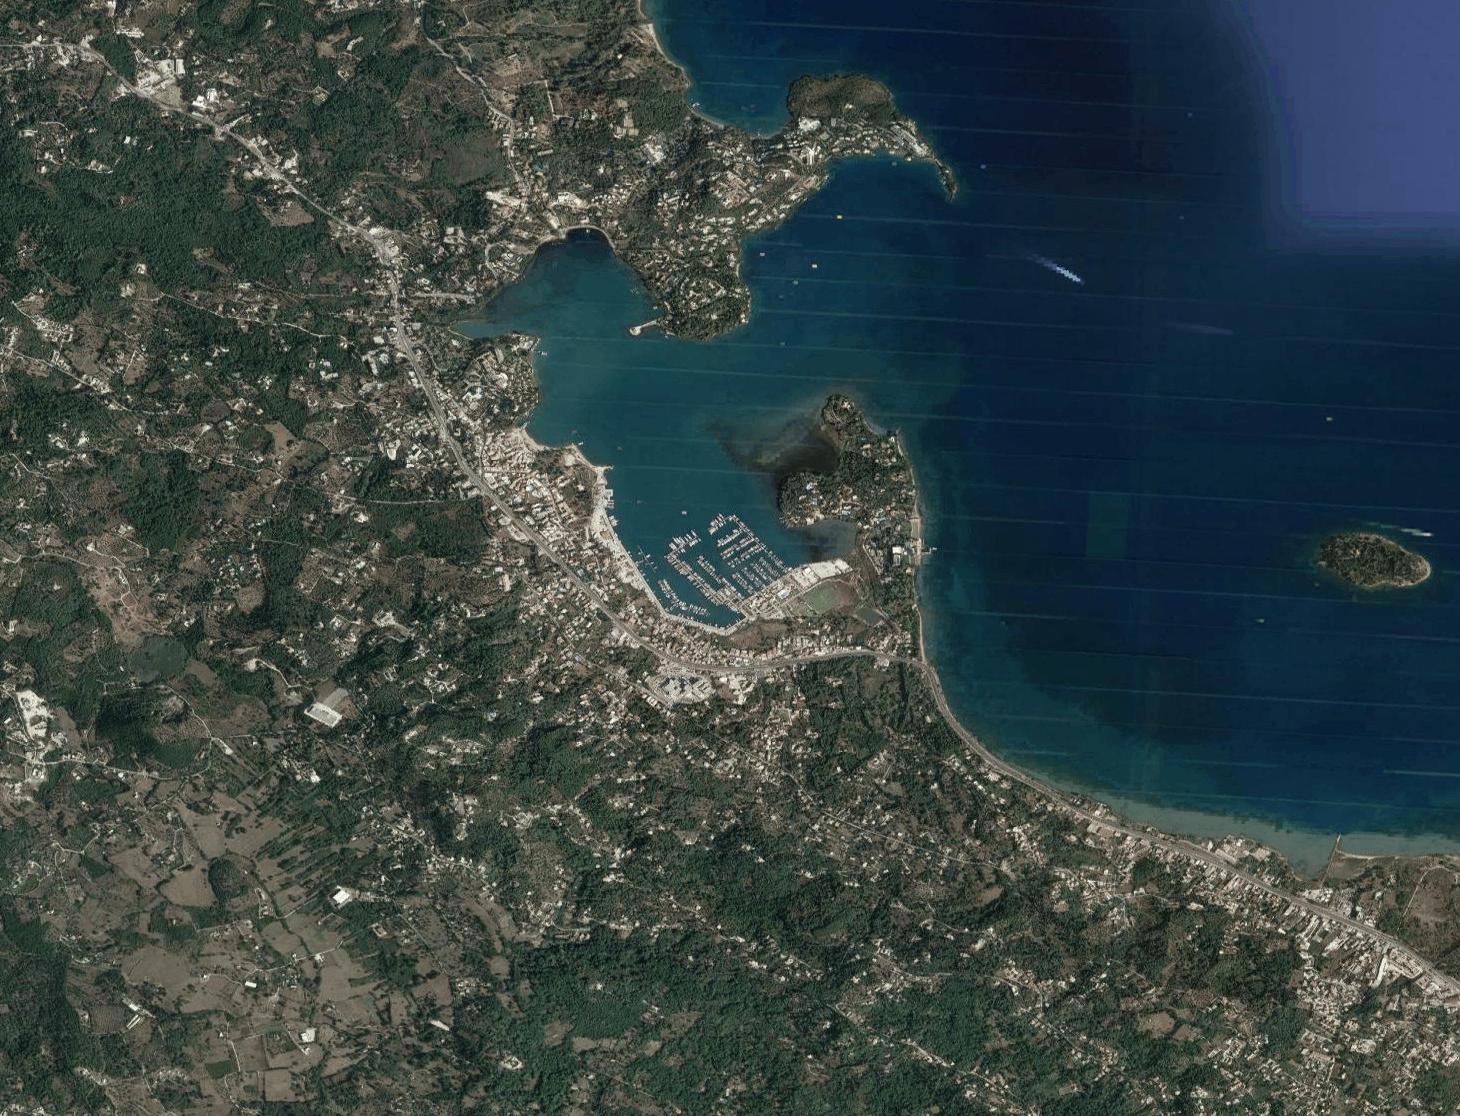harbor: (610, 496, 838, 628)
